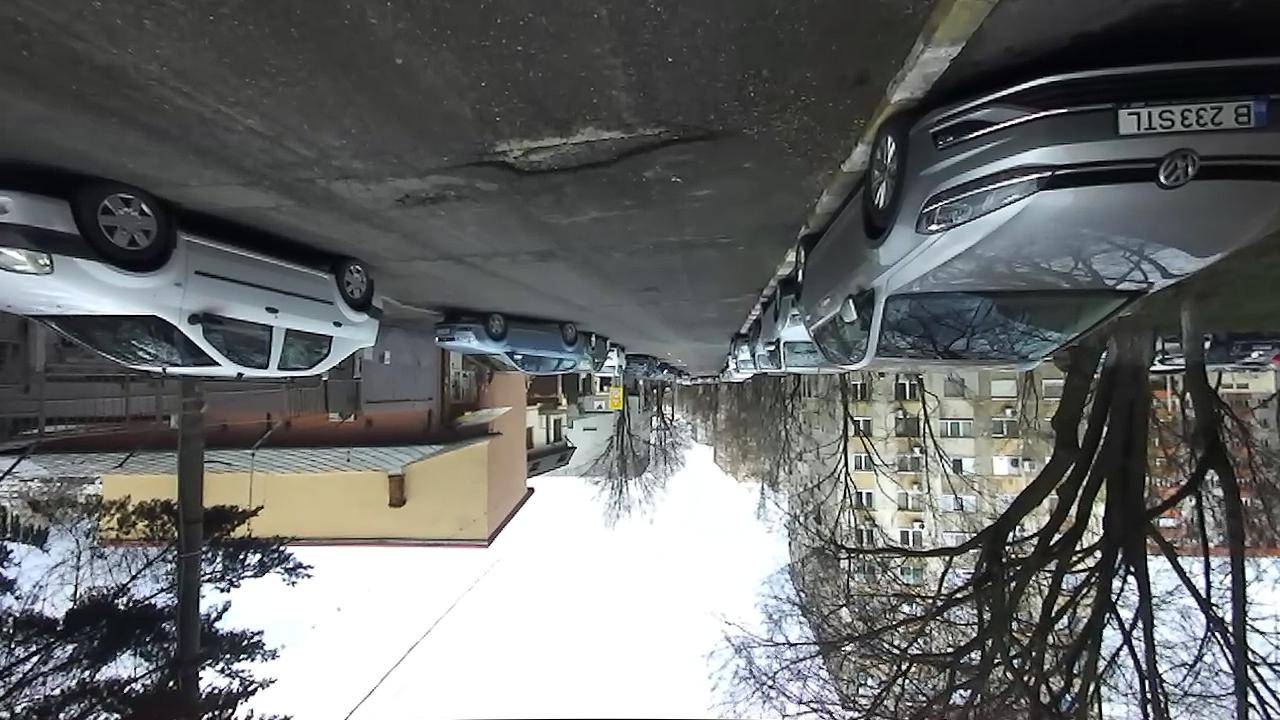pothole: (433, 115, 735, 180), (386, 186, 476, 216)
